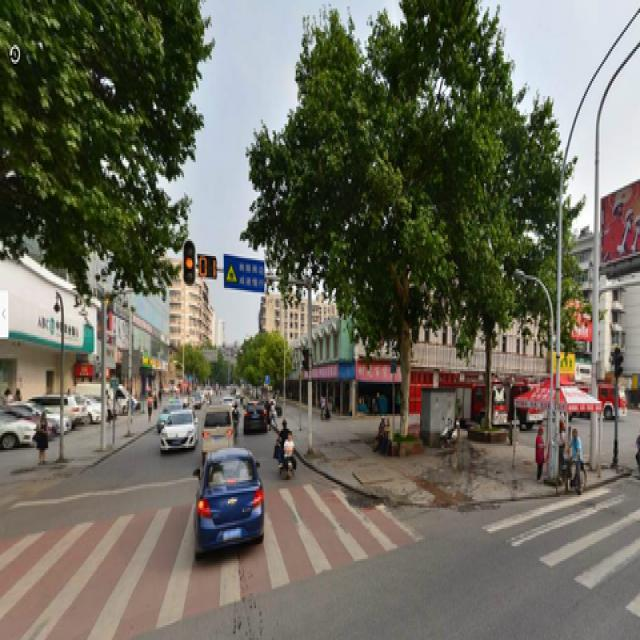meta: (284, 24, 485, 442)
